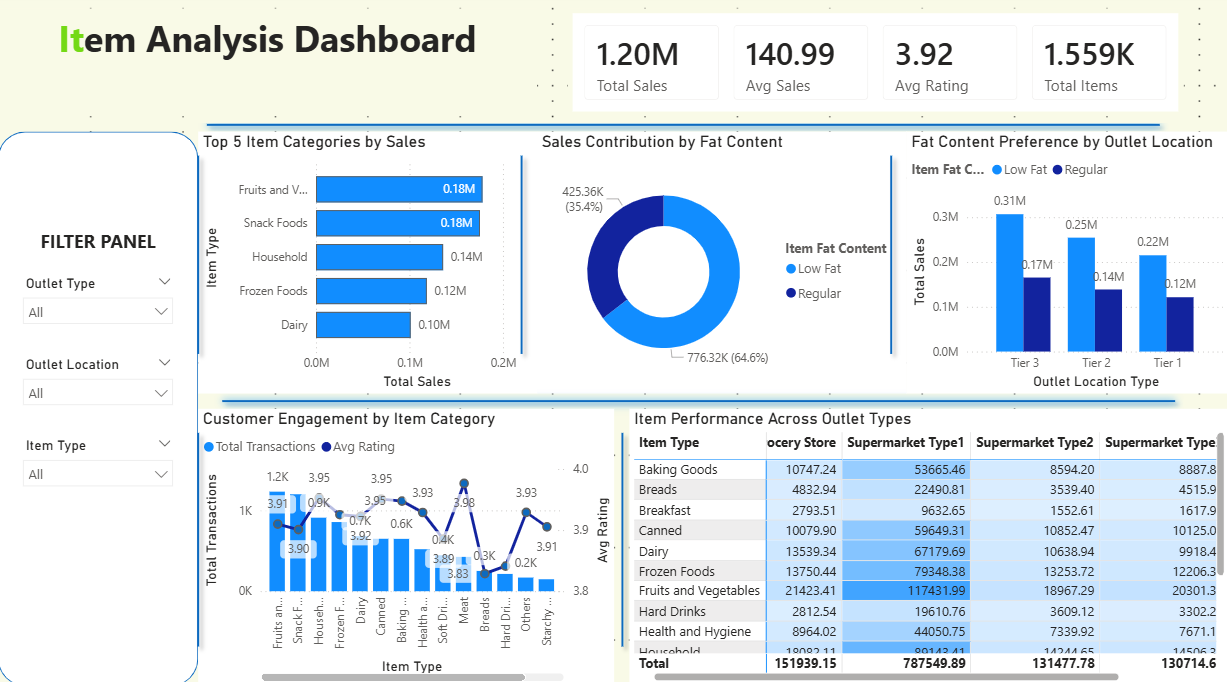

The page's visual inventory and layout, read from the dashboard file:
{"tool":"powerbi","page":{"name":" Item Analysis","canvas":[1280,720],"ordinal":2},"visuals":[{"type":"shape","box":[0,144,208,576],"z":0,"group":"g1"},{"type":"donutChart","title":"Sales Contribution by Fat Content","fields":{"Y":["_Measures.Total Sales"],"Category":["dim_item.Item Fat Content"]},"box":[560,144,384,272],"z":0},{"type":"slicer","fields":{"Values":["dim_outlet.outlet_type"]},"box":[16,288,176,64],"z":0,"group":"g2"},{"type":"group","id":"g1","title":"Group 2","box":[0,144,1232,576],"z":1000},{"type":"group","id":"g2","title":"Group 1","box":[16,288,176,224],"z":1000,"group":"g1"},{"type":"slicer","fields":{"Values":["dim_outlet.outlet_location_type"]},"box":[16,372.7,176,60.5],"z":1000,"group":"g2"},{"type":"clusteredBarChart","title":"Top 5 Item Categories by Sales","fields":{"Category":["dim_item.item_type"],"Y":["_Measures.Total Sales"]},"box":[208,144,352,272],"z":2000},{"type":"textbox","box":[16,240,176,48],"z":2000,"group":"g1"},{"type":"slicer","fields":{"Values":["dim_item.item_type"]},"box":[16,457.4,176,60.5],"z":2000,"group":"g2"},{"type":"shape","box":[512,160,64,224],"z":3000},{"type":"shape","box":[224,400,1008,48],"z":3000,"group":"g1"},{"type":"group","id":"g3","title":"Group 3","box":[0,16,1232,112],"z":4000},{"type":"shape","box":[208,128,1008,16],"z":4000,"group":"g4"},{"type":"cardVisual","fields":{"Data":["_Measures.Total Sales","_Measures.Avg Sales","_Measures.Avg Rating","_Measures.Total Items"]},"box":[592,16,640,112],"z":5000,"group":"g3"},{"type":"group","id":"g4","title":"Group 4","box":[176,128,1040,592],"z":5000},{"type":"textbox","box":[0,16,560,112],"z":6000,"group":"g3"},{"type":"pivotTable","title":"Item Performance Across Outlet Types","fields":{"Columns":["dim_outlet.Outlet Type"],"Rows":["dim_item.item_type"],"Values":["_Measures.Total Sales"]},"box":[656,432,624,288],"z":6000},{"type":"clusteredColumnChart","title":"Fat Content Preference by Outlet Location","fields":{"Category":["dim_outlet.Outlet Location Type"],"Y":["_Measures.Total Sales"],"Series":["dim_item.Item Fat Content"]},"box":[944,144,336,272],"z":7000},{"type":"shape","box":[896,160,64,224],"z":8000},{"type":"lineClusteredColumnComboChart","title":"Customer Engagement by Item Category","fields":{"Category":["dim_item.Item Type"],"Y2":["_Measures.Avg Rating"],"Y":["_Measures.Total Transactions"]},"box":[208,432,432,288],"z":9000,"group":"g4"},{"type":"shape","box":[617,448,64,240],"z":10000,"group":"g4"},{"type":"shape","box":[176,448,64,240],"z":12000,"group":"g4"},{"type":"shape","box":[176,160,64,224],"z":13000,"group":"g4"}]}

Visuals, with their boxes in screenshot pixels (x1, y1, x2, y2), scaled from the page's 1280x720 canvas onto the 1227x682 screenshot:
shape: rect(0, 136, 199, 681)
"Sales Contribution by Fat Content" donutChart: rect(537, 136, 905, 394)
slicer - dim_outlet.outlet_type: rect(15, 273, 184, 333)
"Group 2" group: rect(0, 136, 1181, 681)
"Group 1" group: rect(15, 273, 184, 485)
slicer - dim_outlet.outlet_location_type: rect(15, 353, 184, 410)
"Top 5 Item Categories by Sales" clusteredBarChart: rect(199, 136, 537, 394)
textbox: rect(15, 227, 184, 273)
slicer - dim_item.item_type: rect(15, 433, 184, 491)
shape: rect(491, 152, 552, 364)
shape: rect(215, 379, 1181, 424)
"Group 3" group: rect(0, 15, 1181, 121)
shape: rect(199, 121, 1166, 136)
cardVisual - _Measures.Total Sales x _Measures.Avg Sales: rect(567, 15, 1181, 121)
"Group 4" group: rect(169, 121, 1166, 681)
textbox: rect(0, 15, 537, 121)
"Item Performance Across Outlet Types" pivotTable: rect(629, 409, 1226, 681)
"Fat Content Preference by Outlet Location" clusteredColumnChart: rect(905, 136, 1226, 394)
shape: rect(859, 152, 920, 364)
"Customer Engagement by Item Category" lineClusteredColumnComboChart: rect(199, 409, 614, 681)
shape: rect(591, 424, 653, 652)
shape: rect(169, 424, 230, 652)
shape: rect(169, 152, 230, 364)
